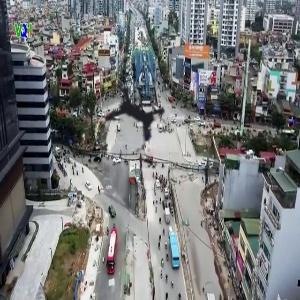drone: (75, 54, 203, 182)
